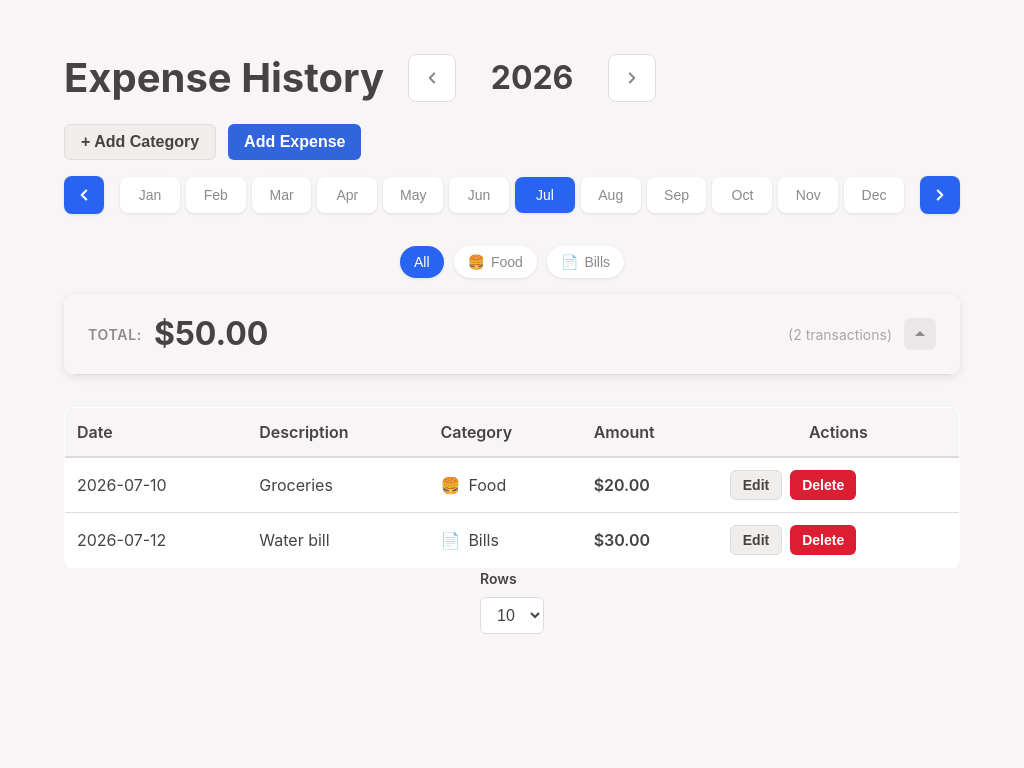
it: HistoryPage category filtering › returns to showing everything when All is clicked again
This screenshot has width=1024, height=768.
Expected: the text "Groceries" is shown, [247, 457, 428, 512]
Click the button "🍔 Food": (495,262) [454, 246, 537, 278]
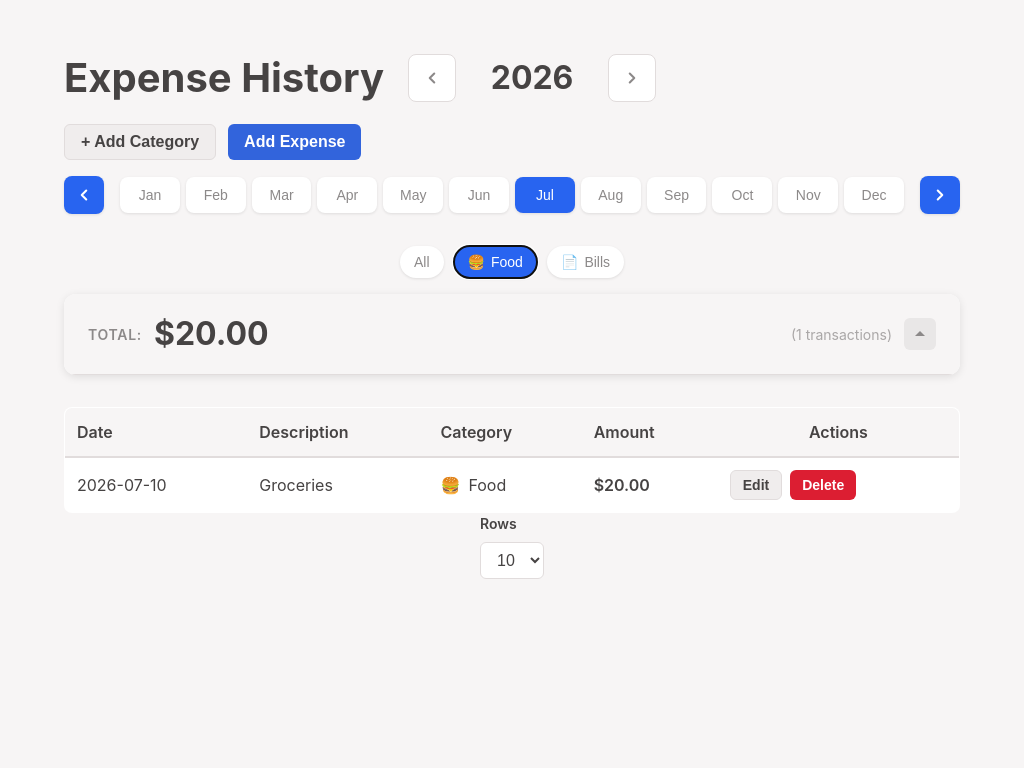
Expected: the text "Water bill" is gone
Click the button "All": (422,262) [400, 246, 444, 278]
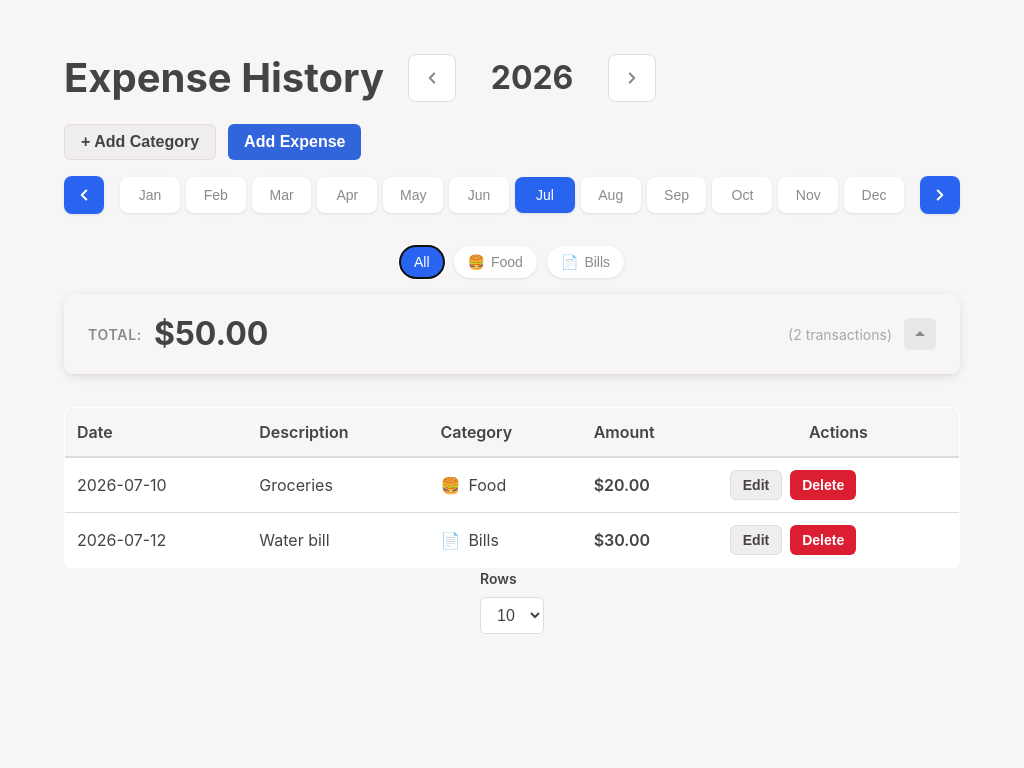
Expected: the text "Groceries" is shown, [247, 457, 428, 512]
Expected: the text "Water bill" is shown, [247, 512, 428, 568]
Expected: the text "$50.00" is shown, [154, 310, 268, 358]
